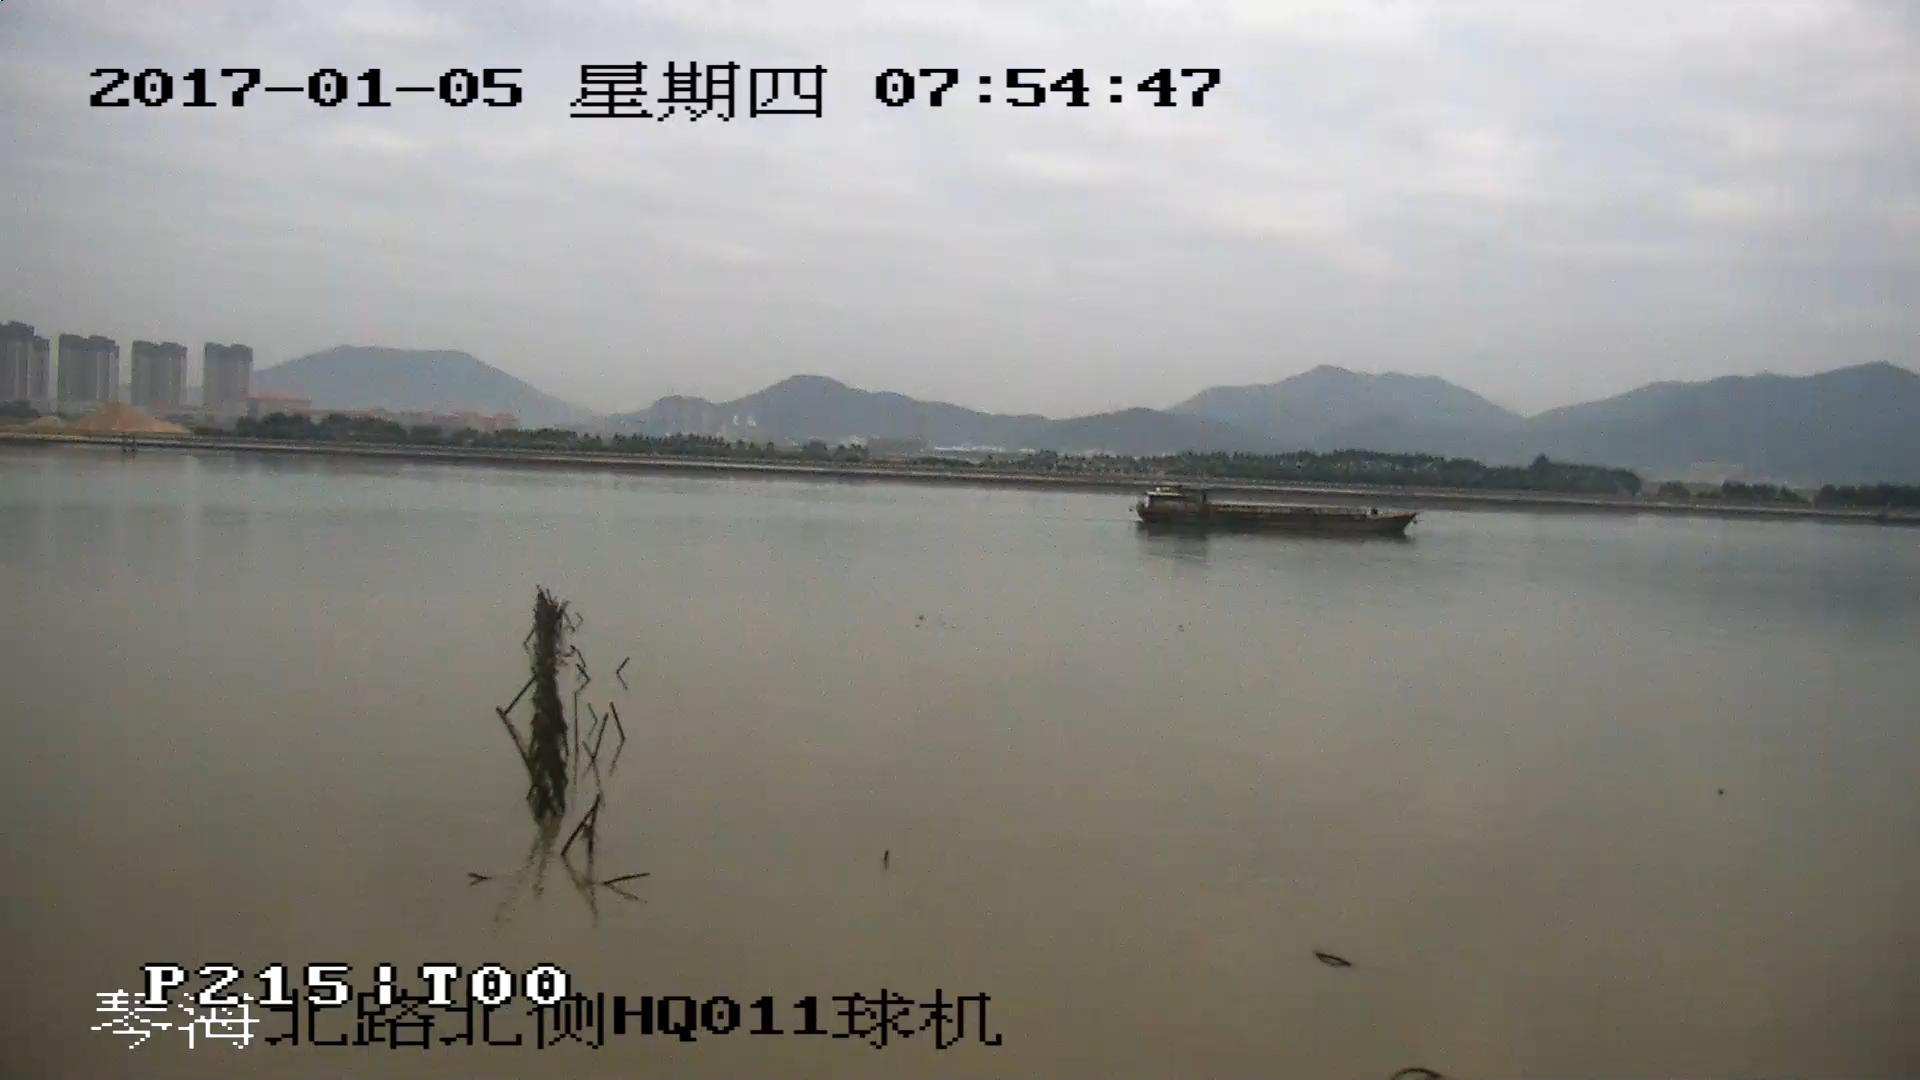Ship: (1135, 484, 1420, 537)
